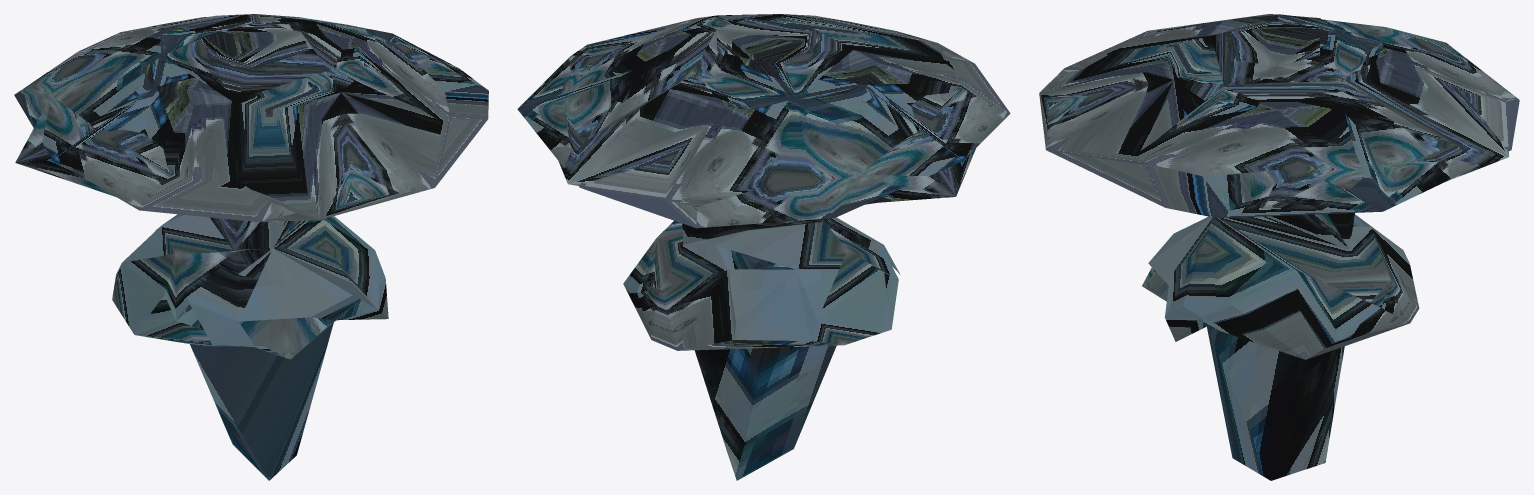
3 views of the same model, side by side, from view 1: azimuth 30°, elevation 25°; view 2: azimuth 150°, elevation 25°; view 3: azimuth 270°, elevation 25° (orthographic).
Visible parts, largest first — view 1: Object_3; view 2: Object_3; view 3: Object_3.
Boxes of the visible parts, bbox=[...] form: Object_3: bbox=[14, 14, 488, 480]; Object_3: bbox=[517, 14, 1010, 480]; Object_3: bbox=[1039, 14, 1519, 480].
Size of the model in its own units: 5.71 by 5.46 by 5.67.
Materials: 1 (1 with a texture image).
